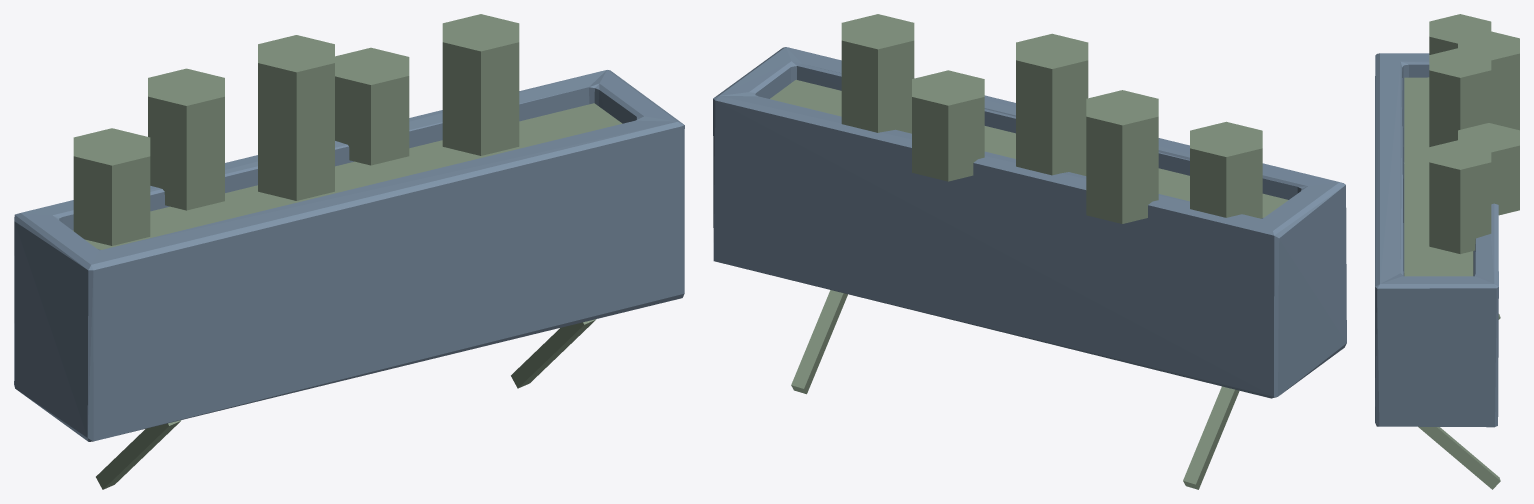
The model's file is SM_Kit_FlowerBox_LOD1.glb.
3 views of the same model, side by side, from view 1: azimuth 30°, elevation 25°; view 2: azimuth 150°, elevation 25°; view 3: azimuth 270°, elevation 25° (orthographic). The views are drawn at different scales.
Parts seen in each view (by area): view 1: SM_Kit_FlowerBox_LOD1; view 2: SM_Kit_FlowerBox_LOD1; view 3: SM_Kit_FlowerBox_LOD1.
Boxes of the visible parts, x1=… form: SM_Kit_FlowerBox_LOD1: x1=14, y1=14, x2=684, y2=489; SM_Kit_FlowerBox_LOD1: x1=713, y1=14, x2=1346, y2=489; SM_Kit_FlowerBox_LOD1: x1=1375, y1=14, x2=1519, y2=489.
Size of the model in its own units: 0.7787 by 0.5071 by 0.2023.
